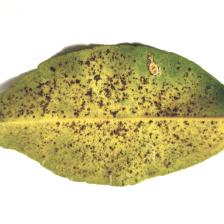canker: (40, 70, 179, 172)
